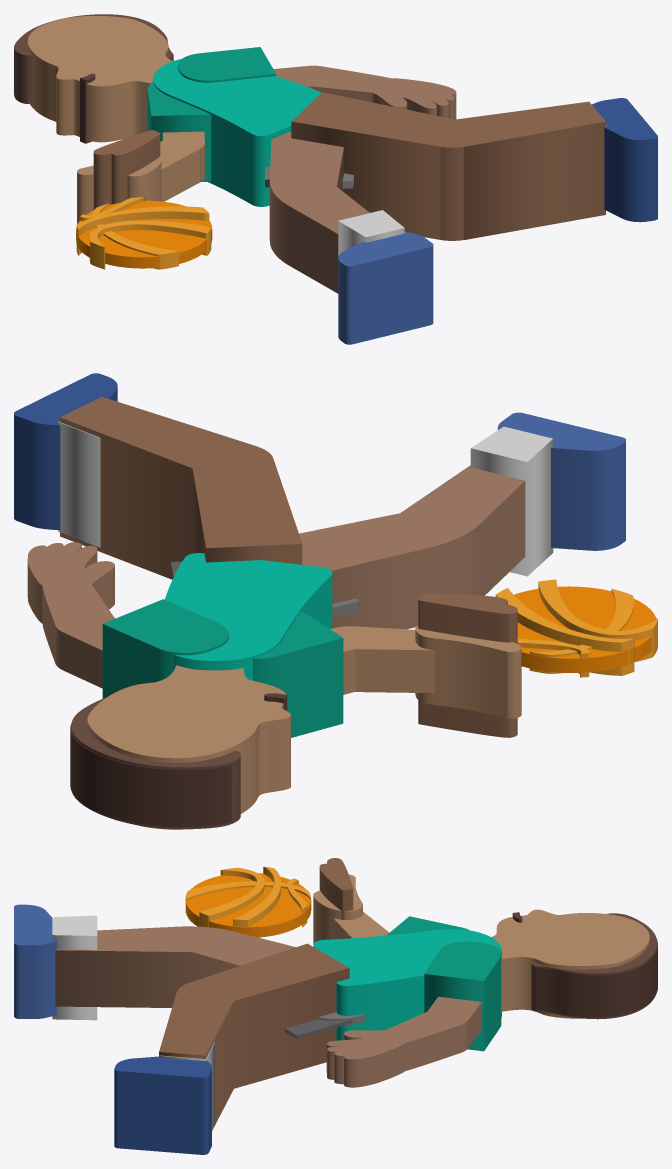
The model's file is emoji_u26f9_1f3fd_200d_2642.glb.
3 renders of one model, top to bottom at view 1: azimuth 30°, elevation 25°; view 2: azimuth 150°, elevation 25°; view 3: azimuth 270°, elevation 25°, orthographic. The views are drawn at different scales.
Visible parts, largest first — view 1: emoji_u26f9_1f3fd_200d_2642; view 2: emoji_u26f9_1f3fd_200d_2642; view 3: emoji_u26f9_1f3fd_200d_2642.
Part boxes in pixels (<box>): emoji_u26f9_1f3fd_200d_2642: <box>14,14,657,344</box>; emoji_u26f9_1f3fd_200d_2642: <box>14,373,657,829</box>; emoji_u26f9_1f3fd_200d_2642: <box>14,858,657,1154</box>.
Bounding box in the file's own units: 0.0291 × 0.0052 × 0.0332.
